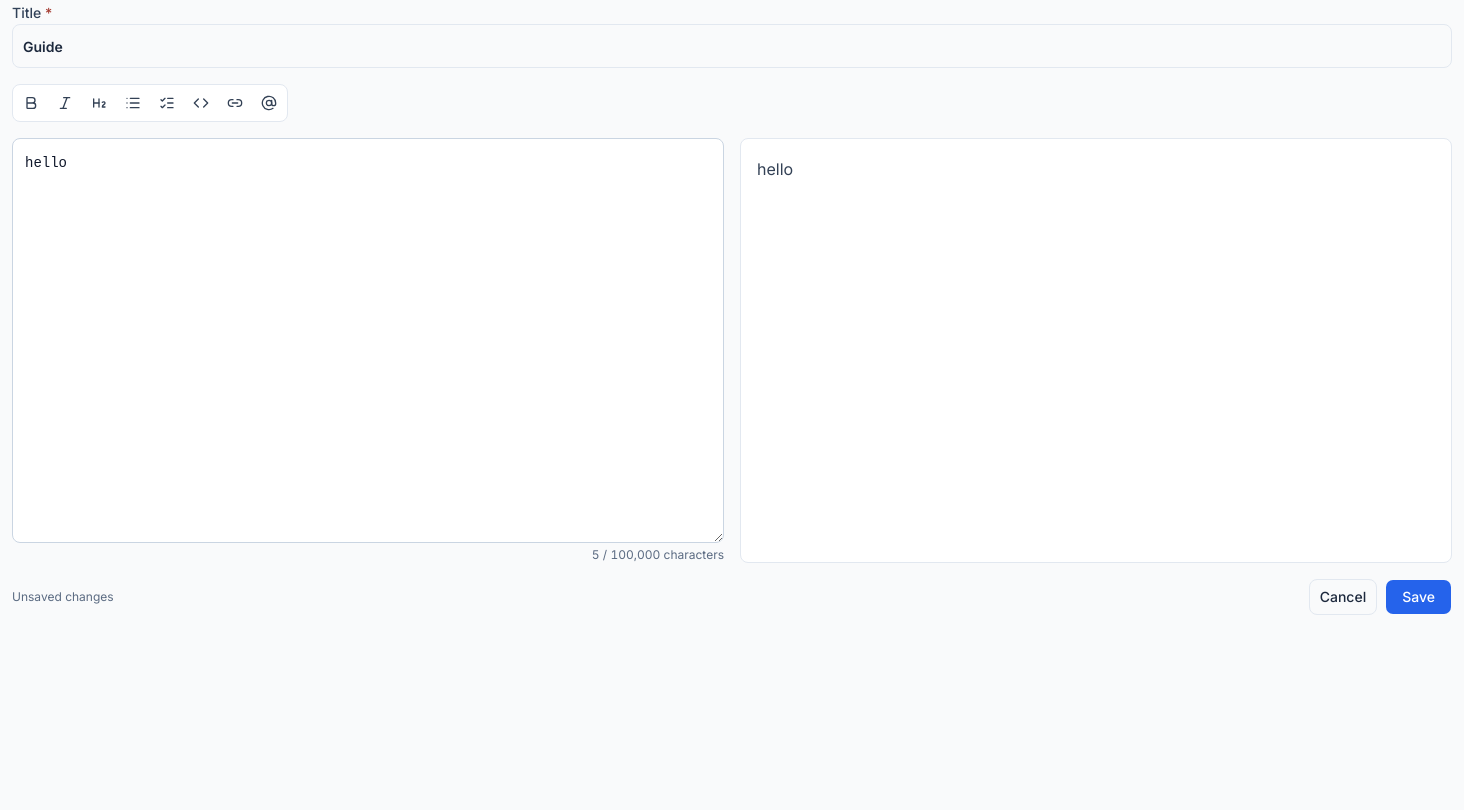
Test: PageEditor › disables Save without a title
Clear the field labelled "Title *" at point(732, 46), box [12,24,1452,68]
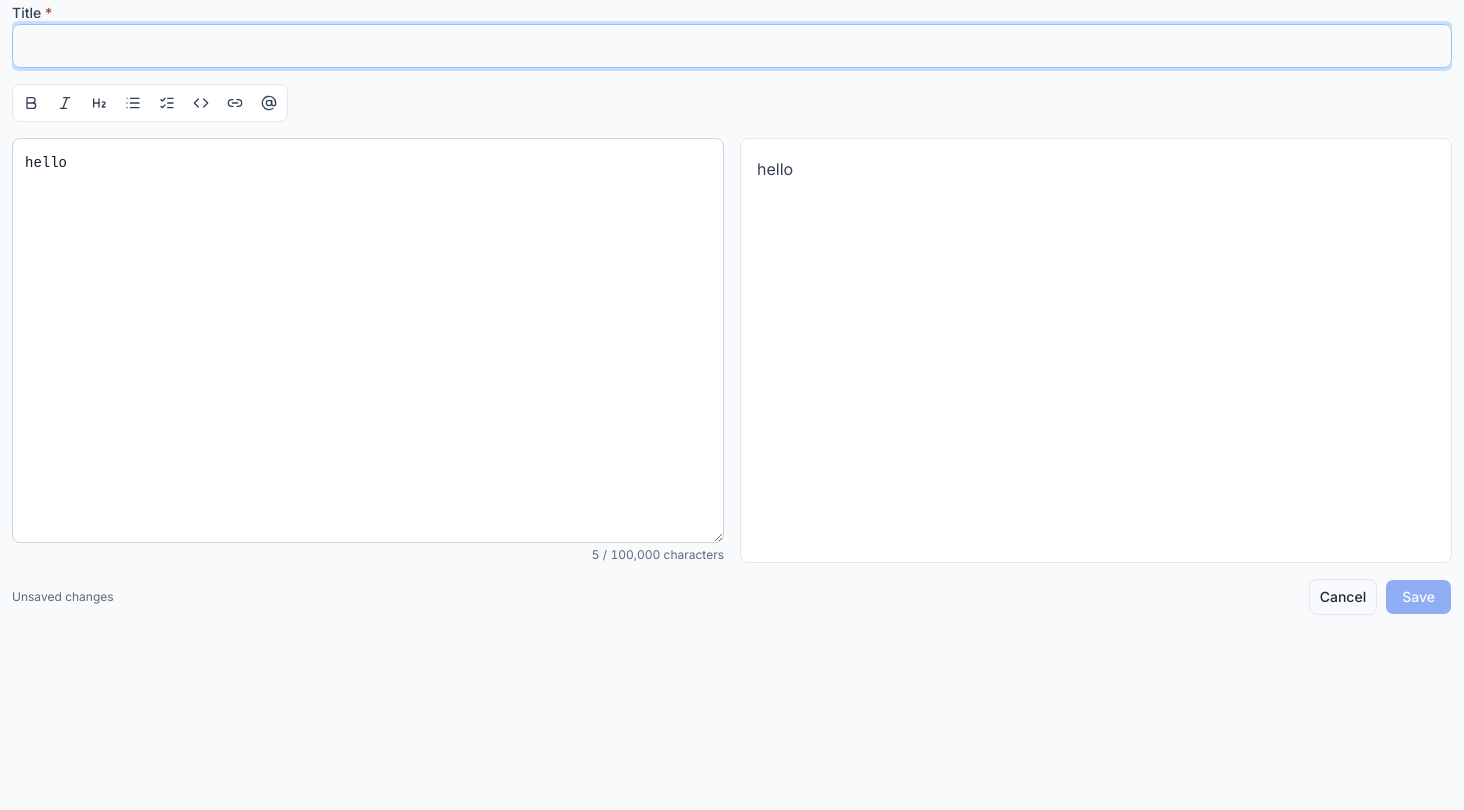
expect the button "Save" is disabled: met, box [1385,579,1452,615]
